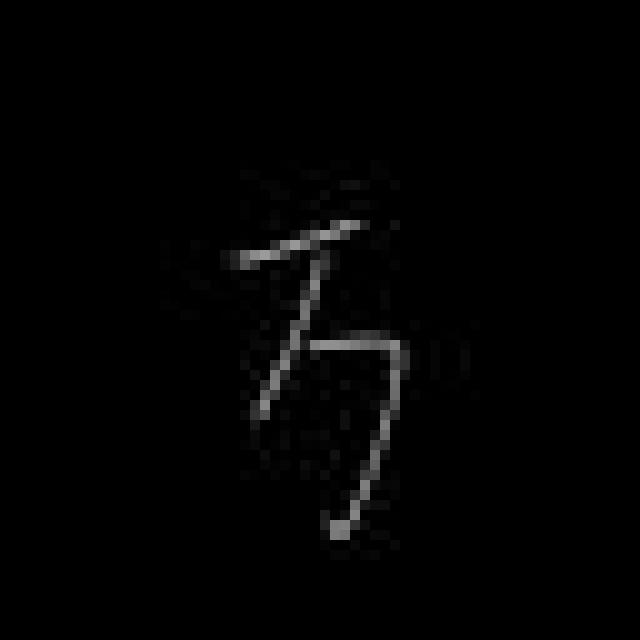10000 -a ten thousand-: (218, 202, 421, 555)
